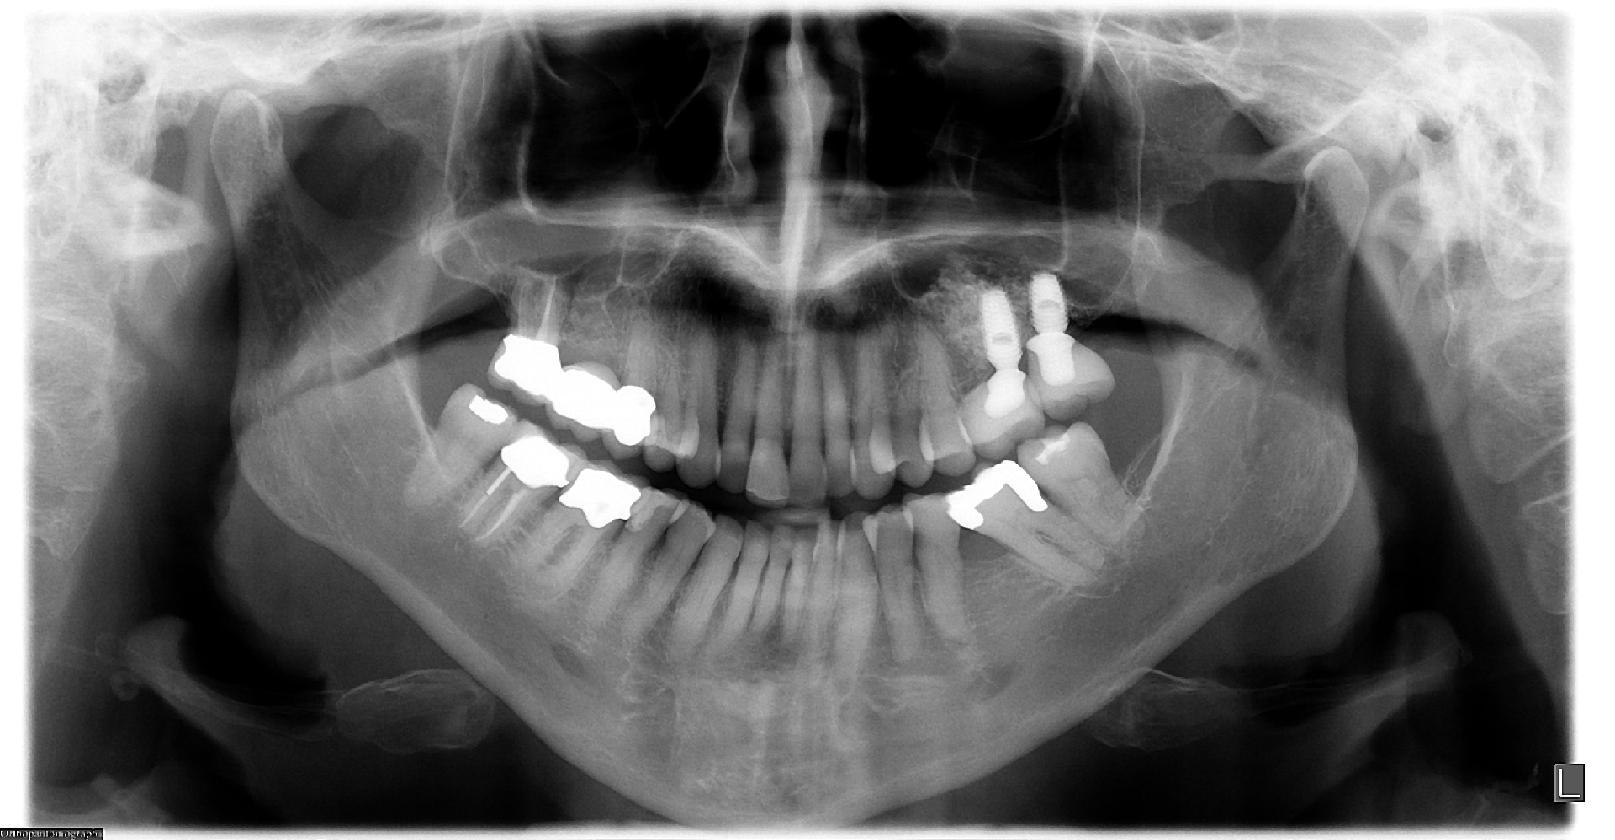Erupted: (1029, 410, 1153, 558), (419, 374, 513, 519)
